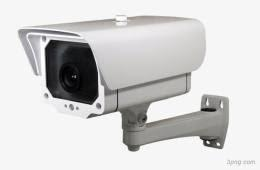tutu: (13, 11, 212, 121)
